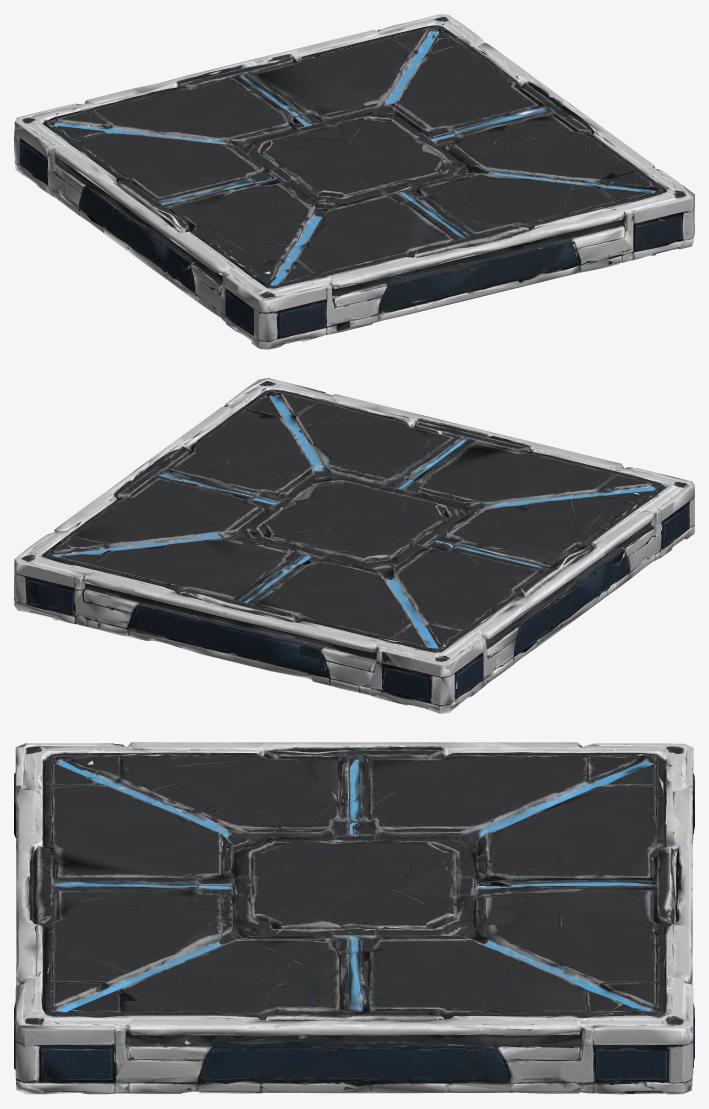
The model's file is magical_floor.glb.
3 views of the same model, one above another, from view 1: azimuth 30°, elevation 25°; view 2: azimuth 150°, elevation 25°; view 3: azimuth 270°, elevation 25° (orthographic). The views are drawn at different scales.
Bounding box in the file's own units: 1.9 × 0.2206 × 1.9.
Materials: 1 (1 with a texture image).
